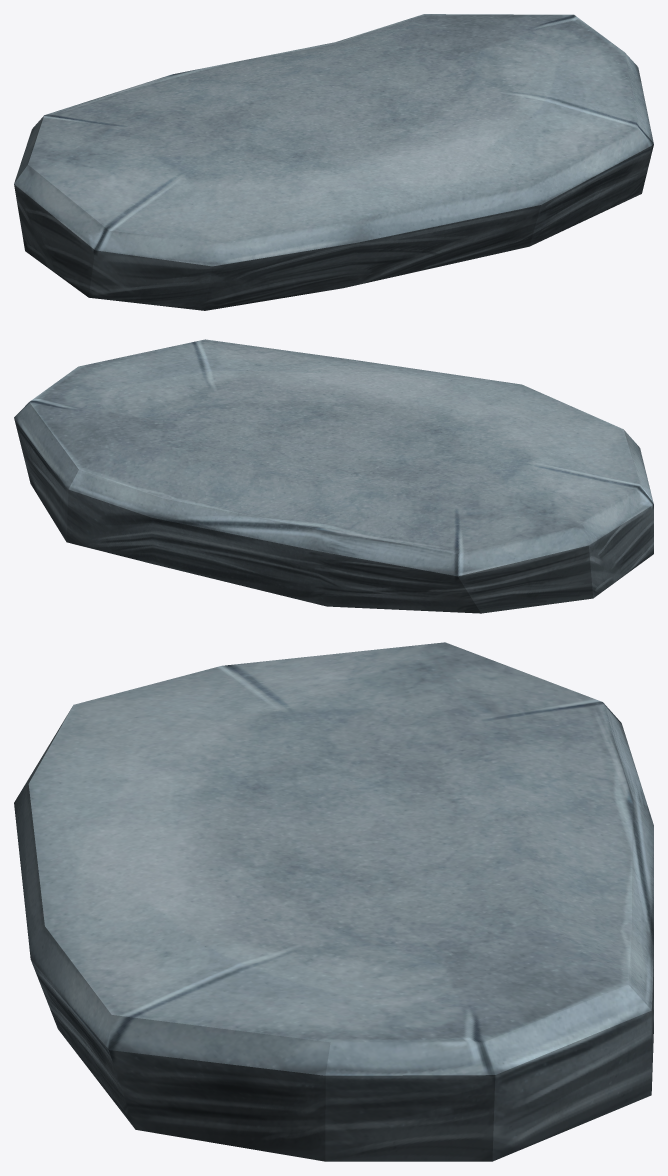
File: SHARP_ROCK_(B).fbx
3 views of the same model, one above another, from view 1: azimuth 30°, elevation 25°; view 2: azimuth 150°, elevation 25°; view 3: azimuth 270°, elevation 25° (orthographic). The views are drawn at different scales.
Parts seen in each view (by area): view 1: pCube2; view 2: pCube2; view 3: pCube2.
Part boxes in pixels (bbox=[...]): pCube2: bbox=[14, 14, 653, 310]; pCube2: bbox=[14, 339, 653, 613]; pCube2: bbox=[14, 642, 653, 1161].
Bounding box in the file's own units: 10.45 × 1.41 × 6.64.
